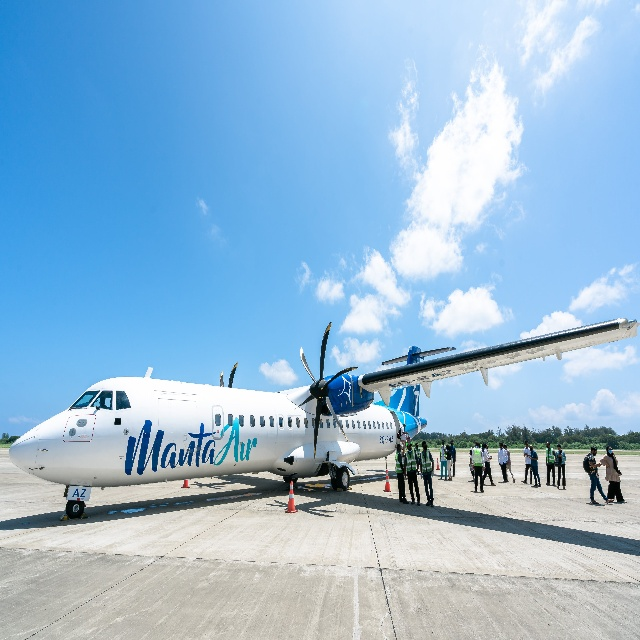Guantes: (431, 470, 434, 478)
Mascara: (423, 445, 428, 451), (593, 450, 597, 457), (608, 448, 612, 455)
